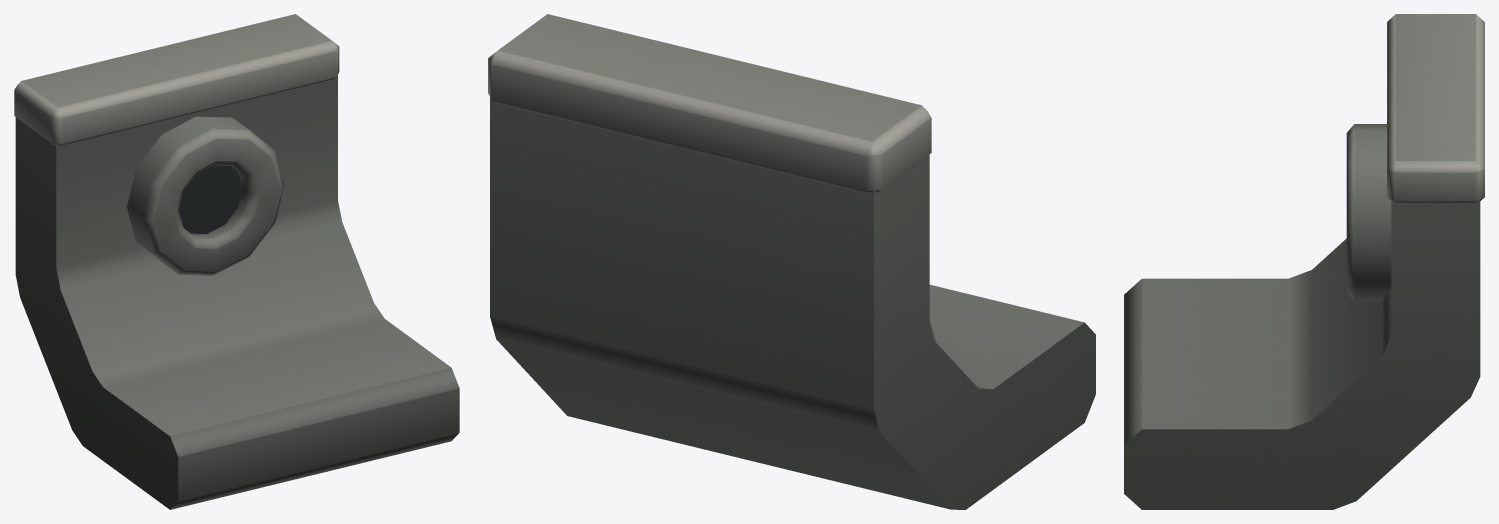
File: canal_wall_section_pipe.fbx
The picture shows the model from 3 angles, left to right: view 1: azimuth 30°, elevation 25°; view 2: azimuth 150°, elevation 25°; view 3: azimuth 270°, elevation 25°; orthographic projection. The views are drawn at different scales.
Visible parts, largest first — view 1: canal_wall_section_pipe; view 2: canal_wall_section_pipe; view 3: canal_wall_section_pipe.
Part boxes in pixels (x1,y1,x2,y2): canal_wall_section_pipe: (14, 14, 459, 509); canal_wall_section_pipe: (488, 14, 1095, 509); canal_wall_section_pipe: (1124, 14, 1484, 509).
Bounding box in the file's own units: 410 × 430 × 405.
